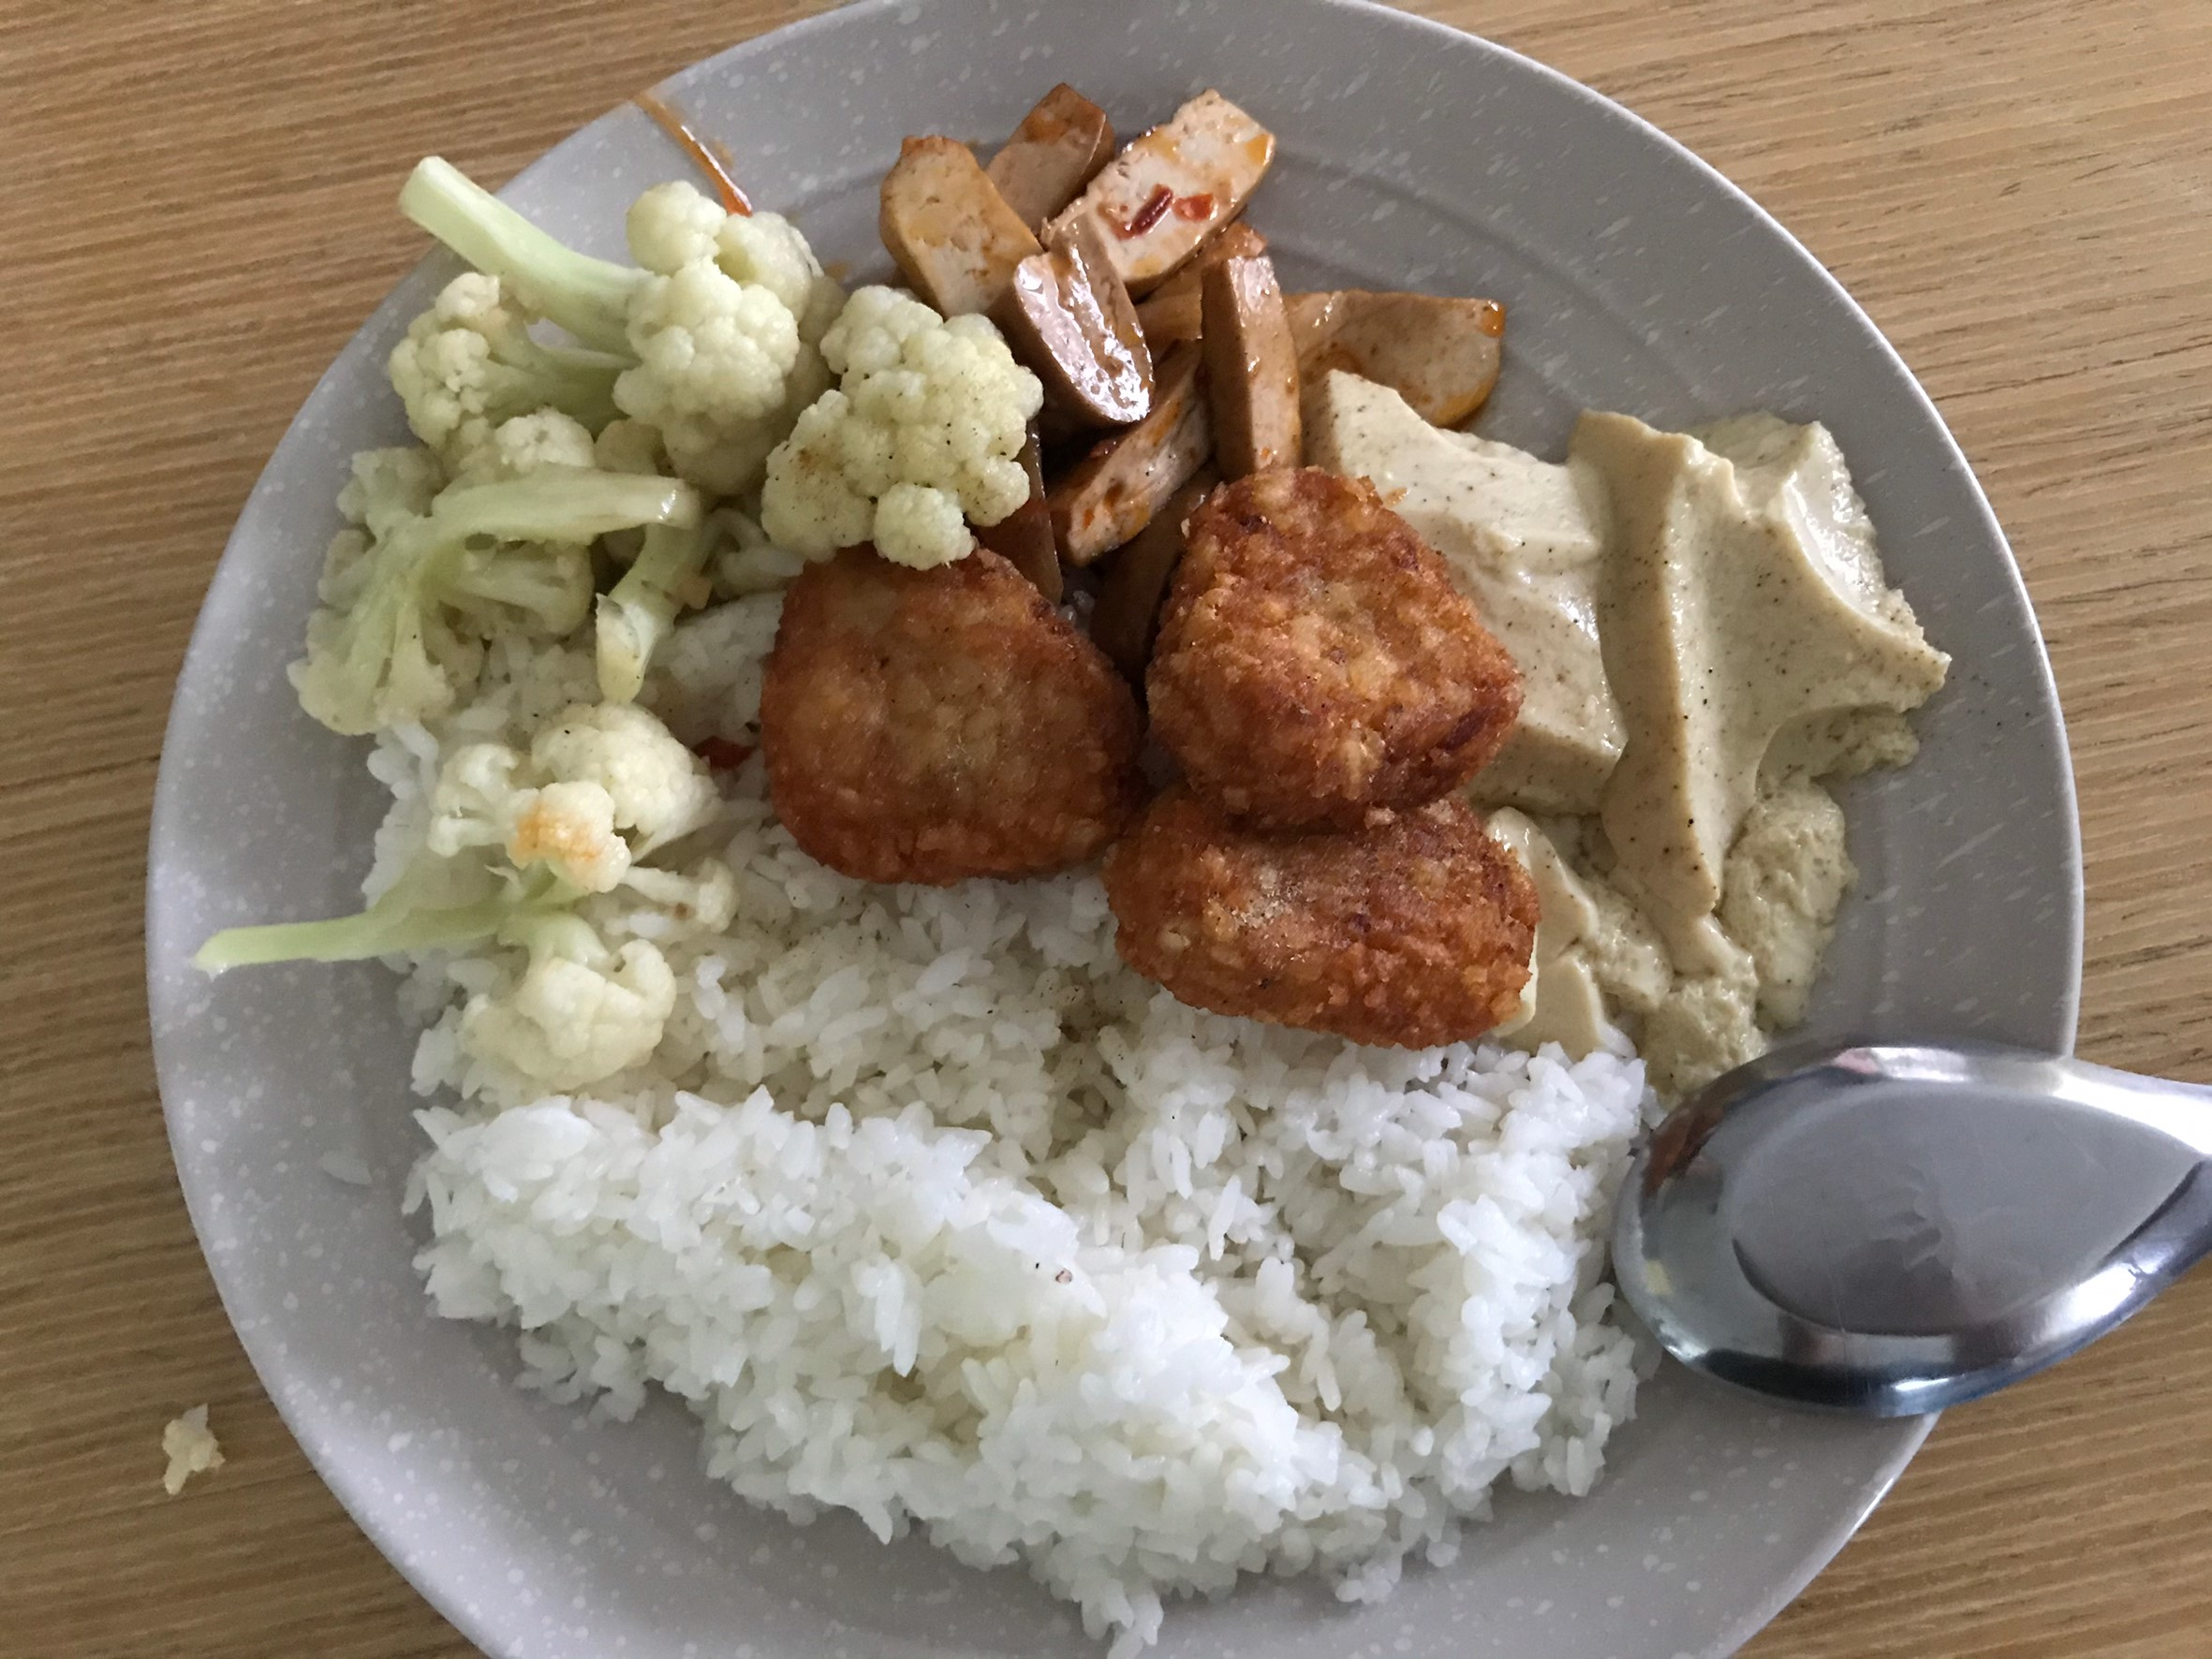rice: (458, 1023, 1593, 1532)
triangle_hash_brown: (750, 457, 1543, 1040)
